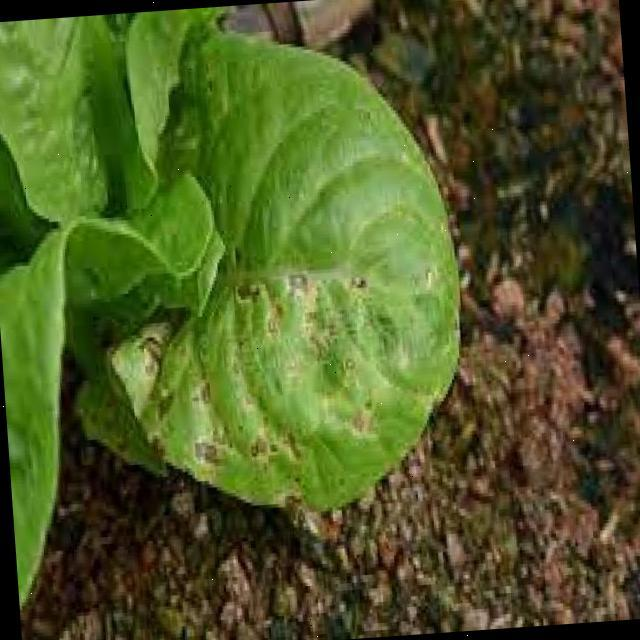Downy_Mildew: (183, 171, 425, 485)
